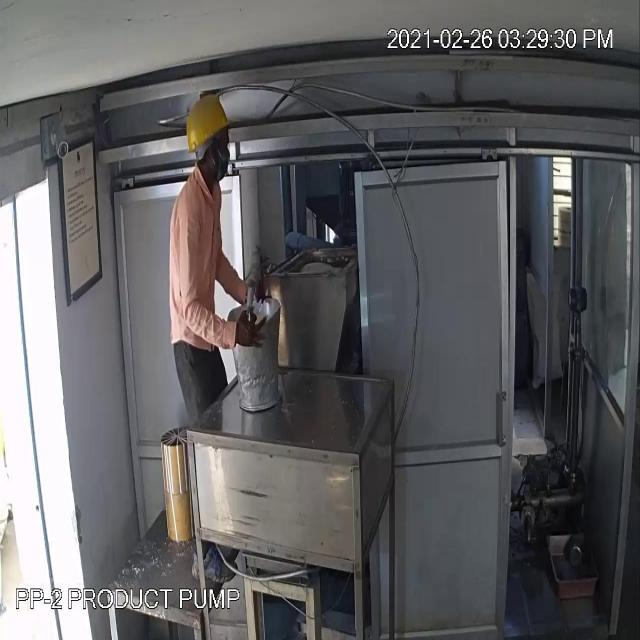boots: (191, 540, 248, 595)
hard-hat: (177, 92, 235, 136)
person: (149, 85, 259, 601)
